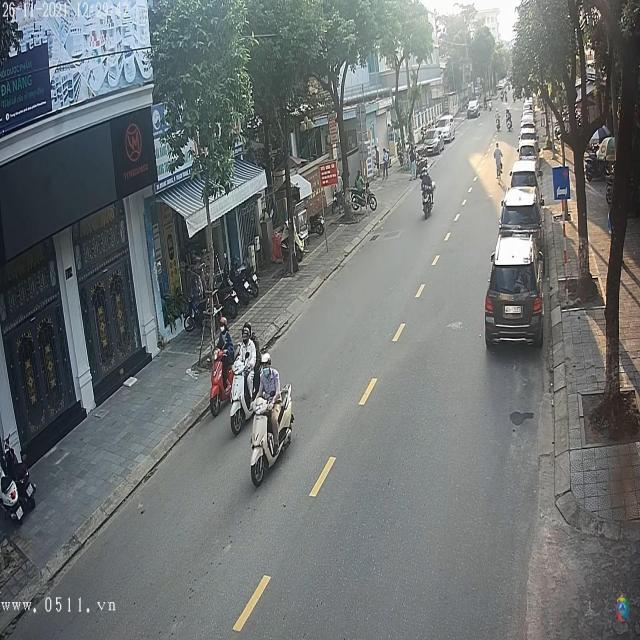car: (485, 232, 545, 349), (499, 188, 543, 238), (506, 160, 538, 197), (423, 126, 444, 154), (517, 144, 536, 162), (518, 124, 536, 142), (468, 98, 482, 117)
motorcycle: (248, 381, 296, 489), (228, 356, 256, 439), (210, 344, 233, 415), (421, 181, 437, 222)
